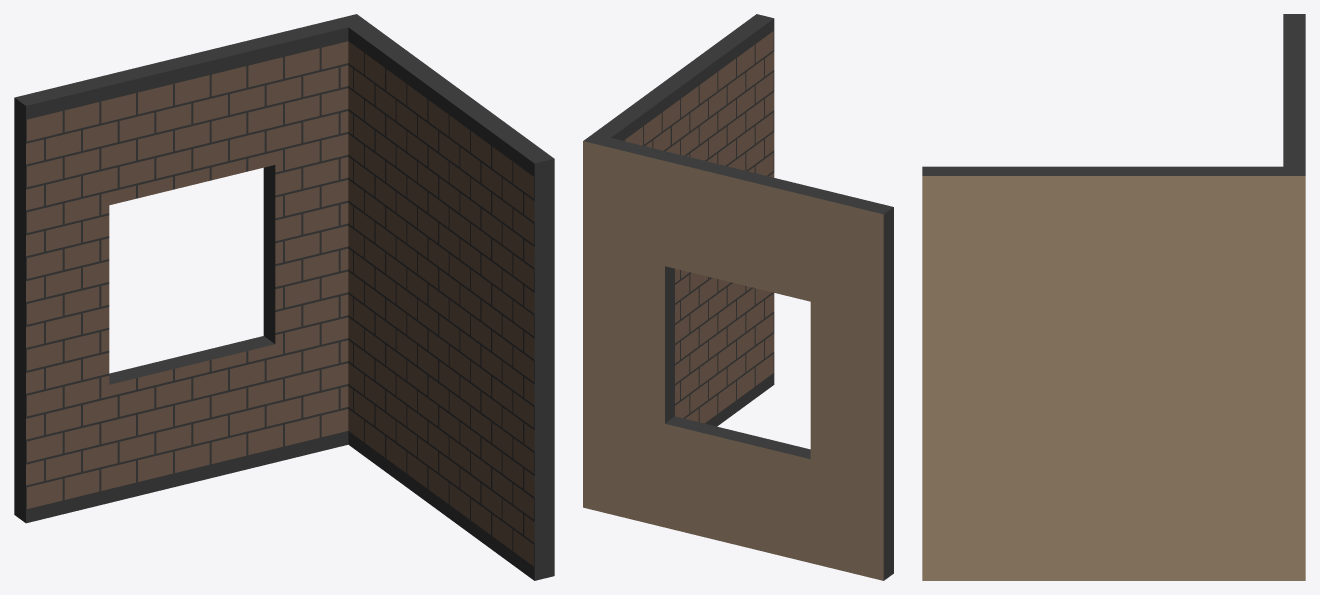
The model's file is Wall3_C10_10.fbx.
3 views of the same model, side by side, from view 1: azimuth 30°, elevation 25°; view 2: azimuth 150°, elevation 25°; view 3: azimuth 270°, elevation 25° (orthographic). The views are drawn at different scales.
Visible parts, largest first — view 1: Wall3_C10_10; view 2: Wall3_C10_10; view 3: Wall3_C10_10.
Boxes of the visible parts, x1,y1,x2,y2 form: Wall3_C10_10: (14, 14, 554, 580); Wall3_C10_10: (583, 14, 893, 580); Wall3_C10_10: (922, 14, 1305, 580).
Bounding box in the file's own units: 258 × 300 × 258.
